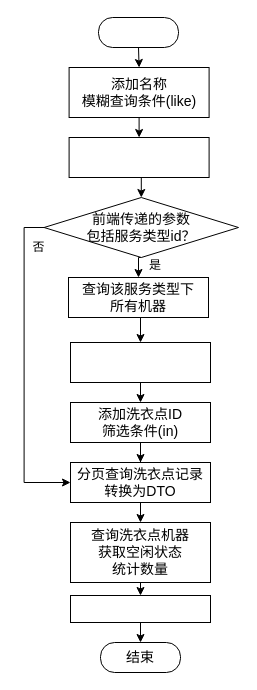
Some shapes in this 257 by 690 pixel diagram are drawn without their labels. The centre of each missing label's shape, as x and y in pixels:
开始: (x=138, y=32)
添加地址 模糊 查询条件 (like): (x=138, y=157)
获取机器所属 洗衣点ID列表: (x=140, y=362)
返回PageResponse: (x=140, y=608)
